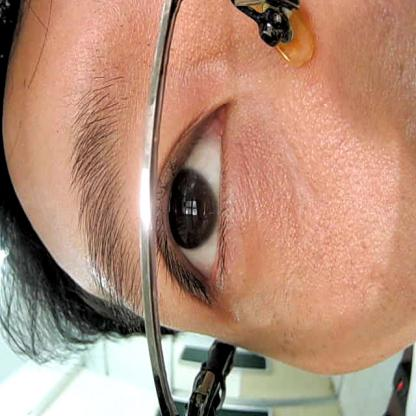Up: (157, 101, 246, 314)
